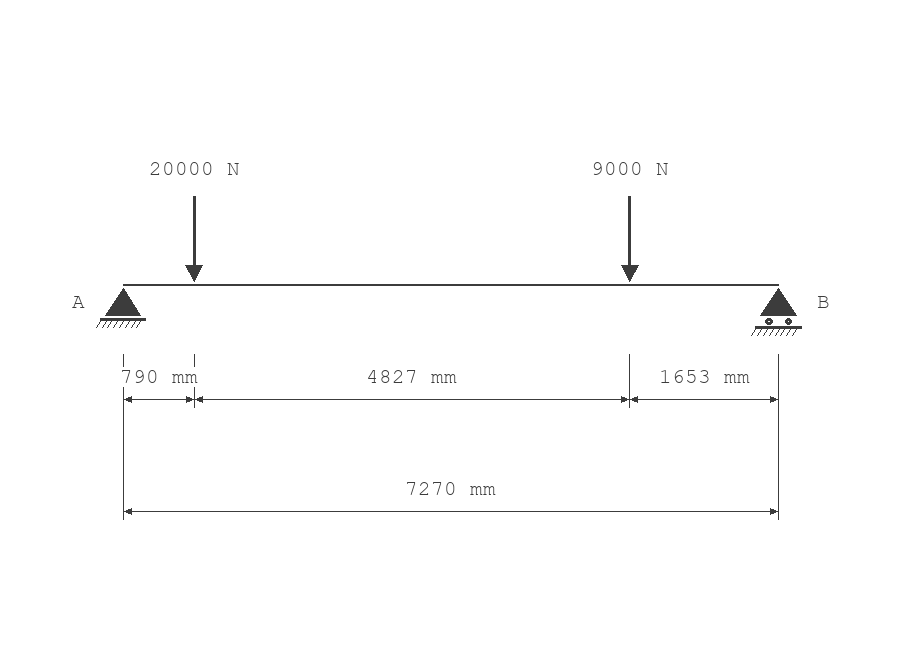pin_support: (96, 288, 146, 328)
point_load: (185, 196, 203, 282), (621, 196, 639, 282)
roller_support: (751, 288, 802, 336)
